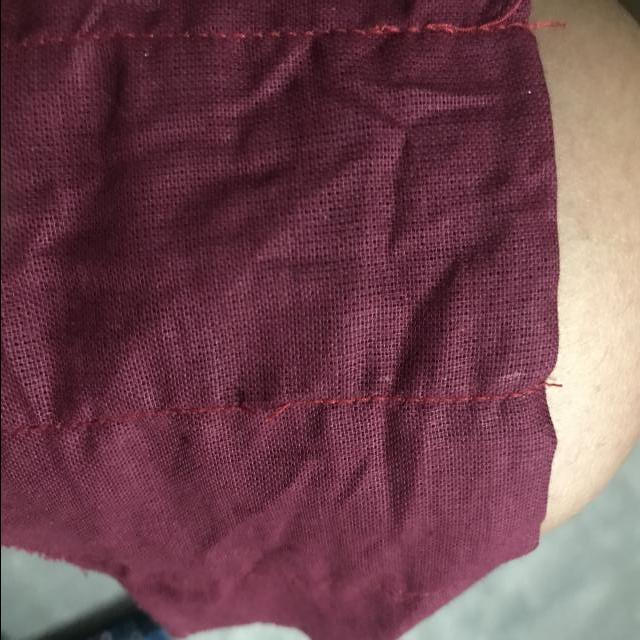Broken: (222, 382, 303, 435)
